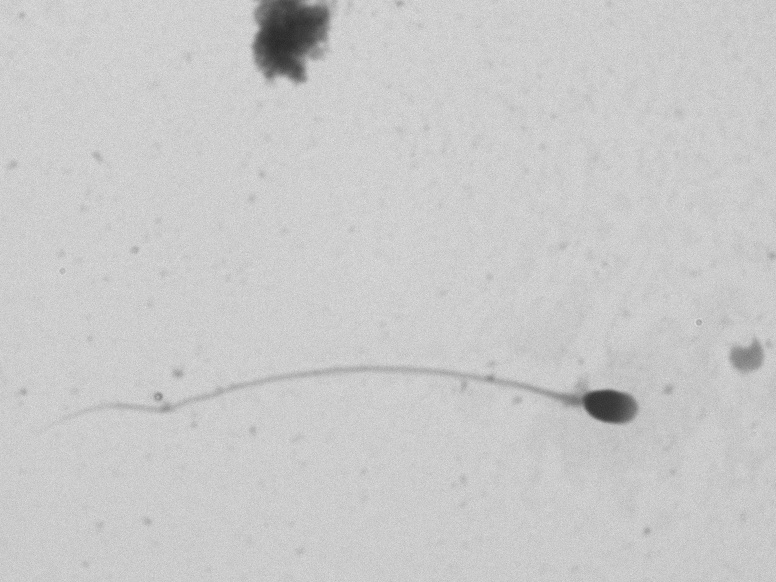Normal: (21, 333, 660, 501)
